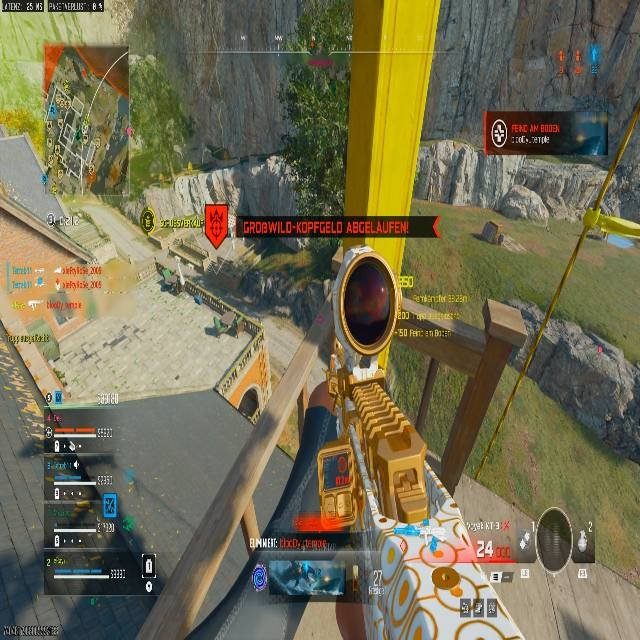player: (495, 231, 505, 246)
